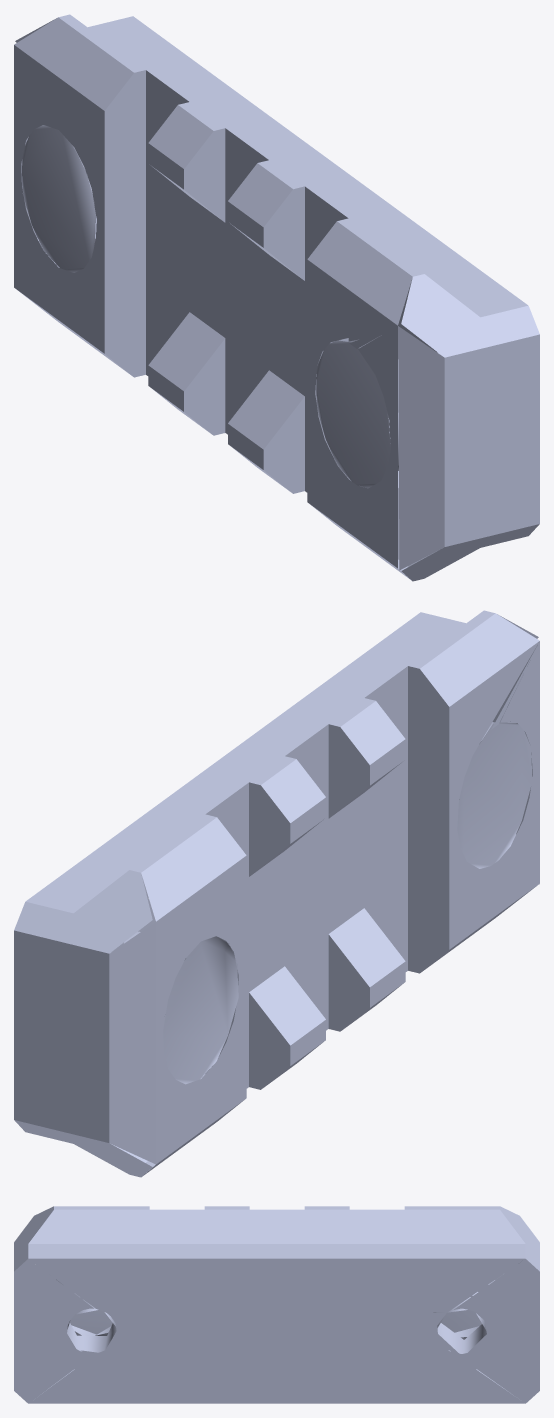
Rendered from AK12_SideRail.glb.
3 views of the same model, one above another, from view 1: azimuth 30°, elevation 25°; view 2: azimuth 150°, elevation 25°; view 3: azimuth 270°, elevation 25° (orthographic). The views are drawn at different scales.
Parts seen in each view (by area): view 1: AK12_SideRail; view 2: AK12_SideRail; view 3: AK12_SideRail.
Part boxes in pixels (x1,y1,x2,y2): AK12_SideRail: (14,14,539,581); AK12_SideRail: (14,610,539,1177); AK12_SideRail: (14,1206,539,1403).
Size of the model in its own units: 0.00912 by 0.0212 by 0.0526.
